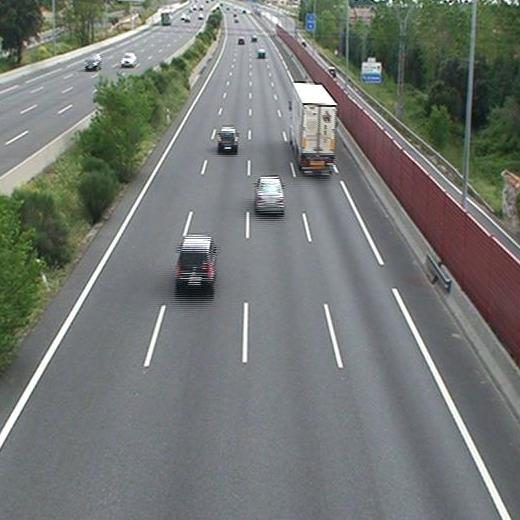car: (177, 237, 215, 287), (256, 177, 284, 212), (218, 129, 238, 148), (256, 48, 266, 58), (237, 37, 245, 45)
truck: (292, 82, 334, 172)
